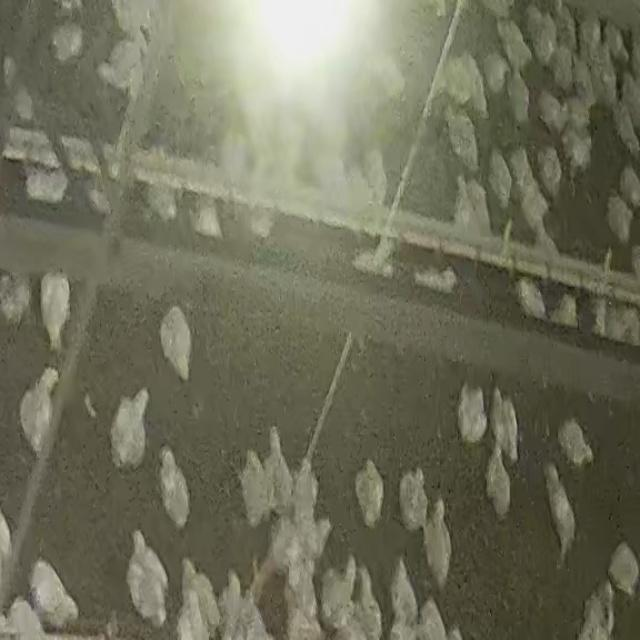chicken: (264, 491, 330, 592), (125, 530, 173, 626), (216, 569, 276, 640), (28, 556, 82, 628), (542, 463, 578, 566), (178, 558, 222, 638), (19, 370, 58, 456), (110, 391, 151, 471), (261, 427, 293, 522), (158, 446, 193, 532), (318, 556, 357, 632), (283, 566, 323, 640), (422, 497, 453, 589), (451, 173, 492, 242), (97, 36, 145, 94), (239, 447, 273, 528), (438, 51, 484, 110), (40, 271, 72, 353), (290, 457, 322, 536), (488, 387, 520, 465), (387, 559, 419, 635), (444, 106, 481, 171), (352, 563, 384, 638), (160, 305, 191, 382), (484, 443, 514, 522), (524, 0, 555, 75), (354, 458, 385, 528), (398, 466, 430, 532), (555, 417, 595, 469), (457, 381, 489, 445), (606, 540, 640, 600), (551, 122, 592, 171), (533, 142, 566, 202), (4, 596, 49, 639), (23, 165, 70, 205), (577, 586, 613, 638), (0, 270, 31, 328), (486, 145, 515, 207), (561, 81, 598, 126), (414, 596, 451, 640), (142, 181, 178, 224), (515, 276, 550, 320), (605, 192, 634, 244), (547, 0, 578, 48), (49, 22, 85, 62), (482, 50, 512, 97), (548, 42, 574, 90), (578, 2, 601, 55), (192, 200, 224, 238), (538, 92, 569, 131), (618, 163, 640, 214), (11, 83, 35, 123)
